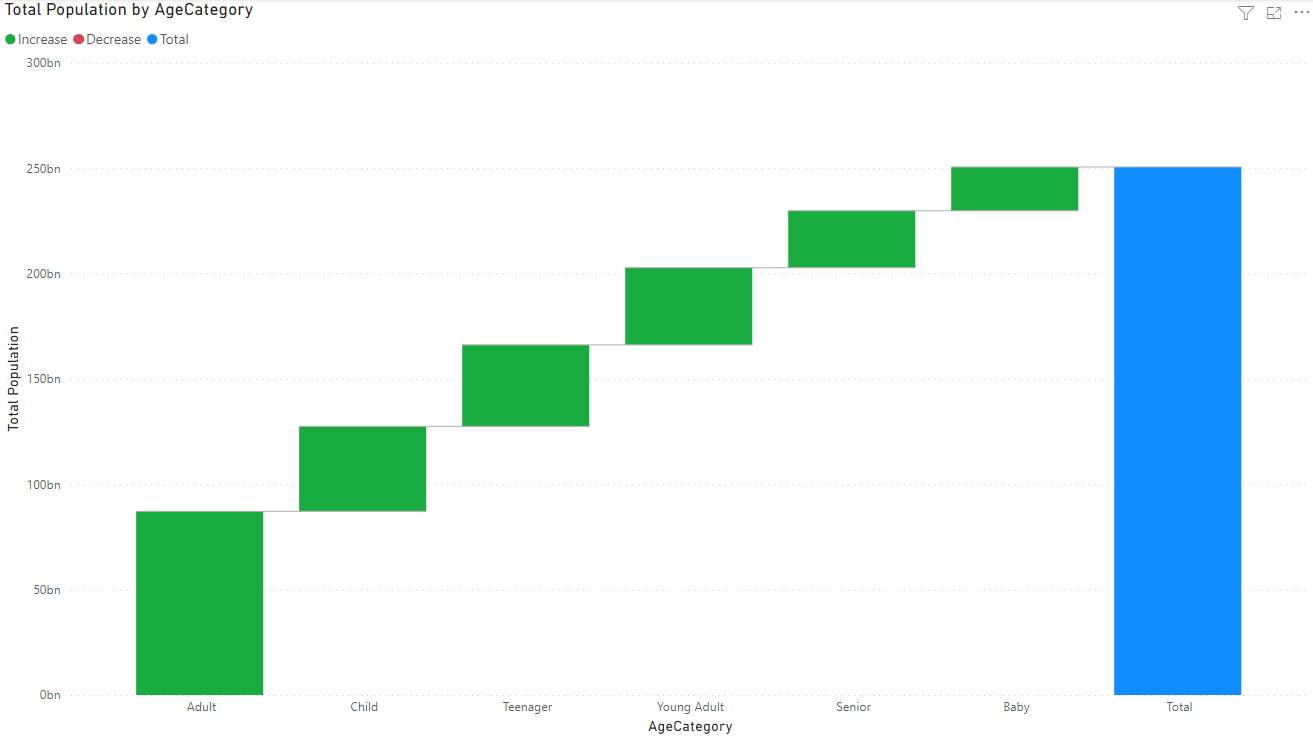

The dashboard page shown, as its layout file describes it:
{"tool":"powerbi","page":{"name":"Waterfall","canvas":[1280,720],"ordinal":5},"visuals":[{"type":"waterfallChart","fields":{"Y":["FactPopulation.Total Population"],"Category":["DimAge.AgeCategory"]},"box":[0,0,1280,719.8],"z":0}]}

Visuals, with their boxes in screenshot pixels (x1, y1, x2, y2), scaled from the page's 1280x720 canvas onto the 1313x737 screenshot:
waterfallChart - FactPopulation.Total Population x DimAge.AgeCategory: [0, 0, 1312, 736]
